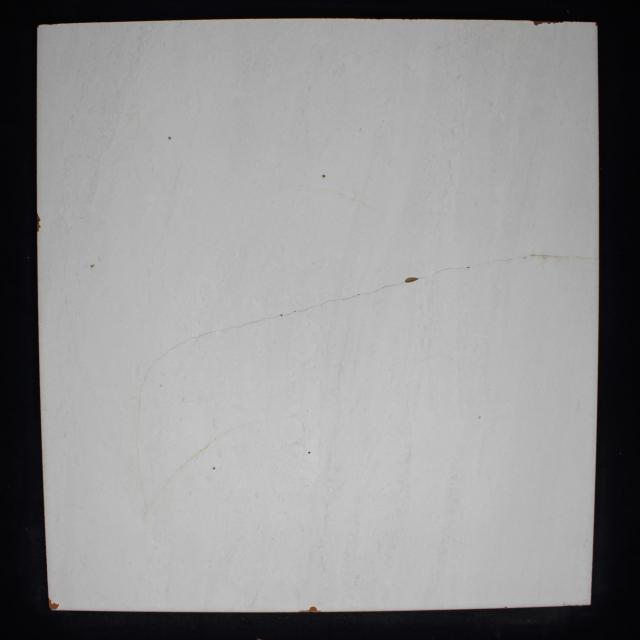edge-chipping: (48, 598, 59, 612), (36, 212, 41, 232), (309, 606, 321, 613), (532, 20, 543, 26), (552, 20, 564, 24), (544, 20, 552, 24), (298, 610, 308, 613), (595, 22, 598, 26), (37, 24, 39, 28)
hole: (404, 276, 420, 283), (90, 264, 95, 268), (321, 174, 326, 178), (168, 136, 172, 140), (308, 451, 311, 454), (212, 467, 215, 470)
line: (423, 257, 514, 279), (279, 293, 360, 317), (174, 330, 218, 349), (148, 348, 172, 371), (521, 253, 599, 260), (228, 317, 272, 329), (364, 282, 402, 295), (137, 374, 148, 418)
